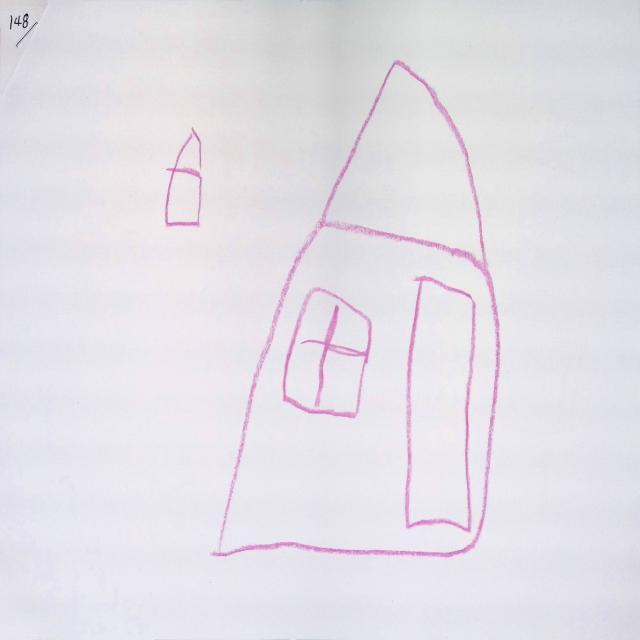door: (402, 277, 477, 538)
house: (208, 54, 511, 564), (161, 124, 206, 228)
roof: (309, 54, 500, 276), (170, 127, 204, 177)
wall: (218, 232, 496, 555), (168, 173, 199, 225)
window: (280, 280, 375, 421)
